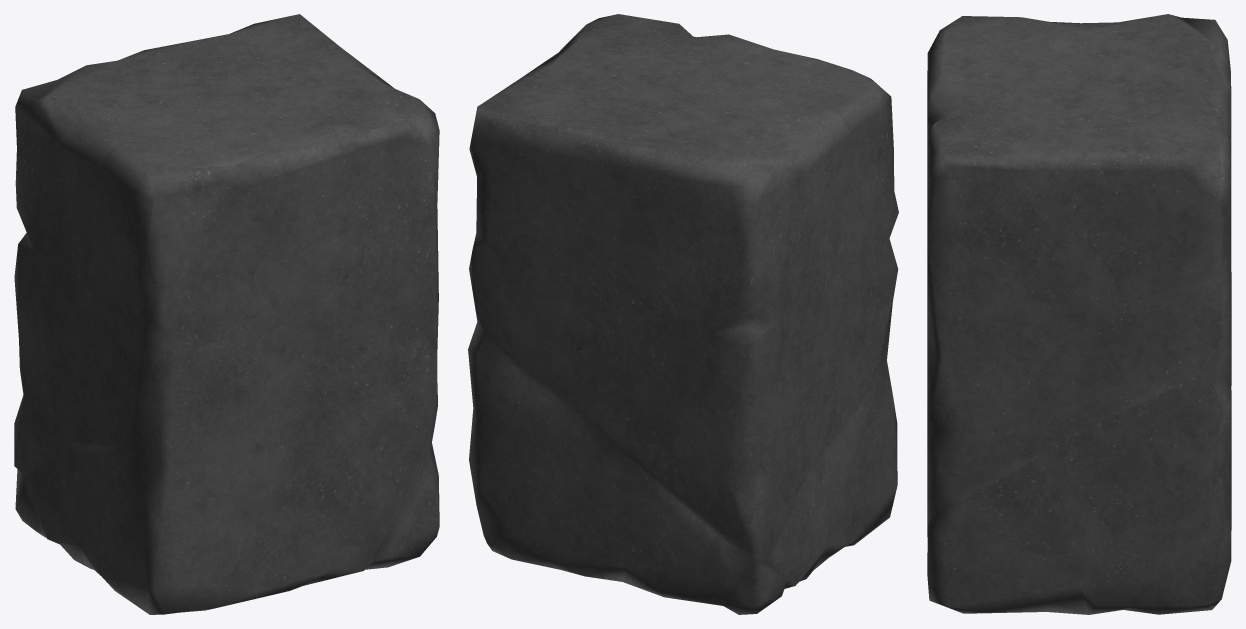
Rendered from SM_ColumnSegment1.fbx.
3 views of the same model, side by side, from view 1: azimuth 30°, elevation 25°; view 2: azimuth 150°, elevation 25°; view 3: azimuth 270°, elevation 25° (orthographic). The views are drawn at different scales.
Parts seen in each view (by area): view 1: SM_ColumnSegment1_LOD0; view 2: SM_ColumnSegment1_LOD0; view 3: SM_ColumnSegment1_LOD0.
Part boxes in pixels (<box>): SM_ColumnSegment1_LOD0: <box>14,14,439,614</box>; SM_ColumnSegment1_LOD0: <box>468,14,898,614</box>; SM_ColumnSegment1_LOD0: <box>927,14,1231,614</box>.
Size of the model in its own units: 132 by 114 by 191.
1 material, 1 textured.
